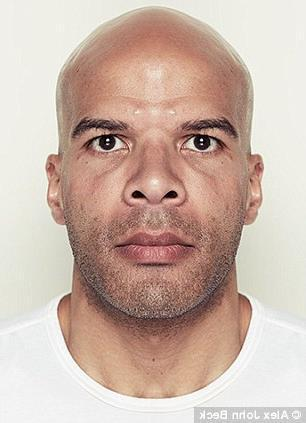Sober: (65, 62, 242, 294)
